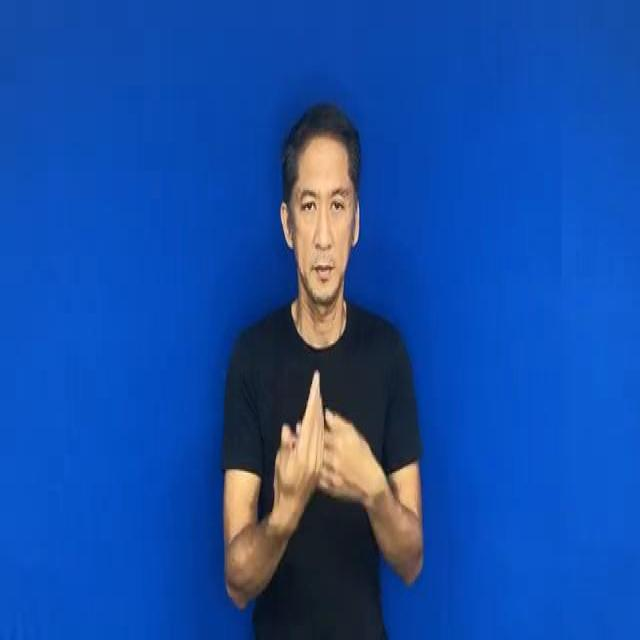bread: (270, 371, 386, 539)
